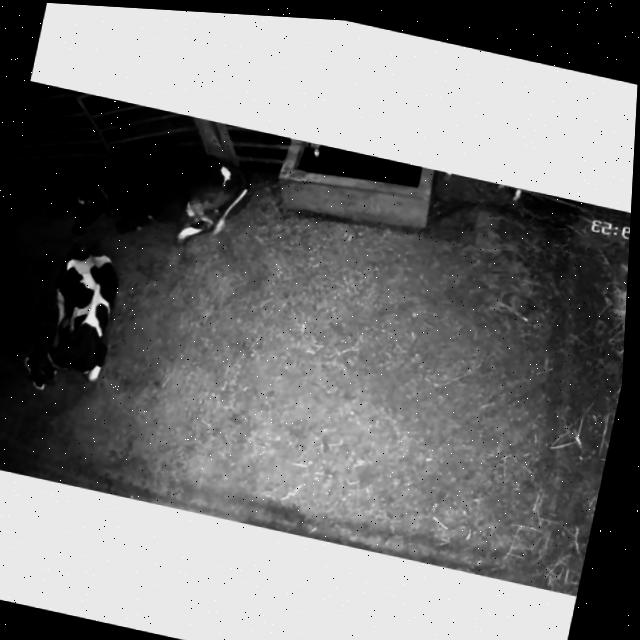lay: (46, 118, 265, 274), (7, 229, 144, 413)
